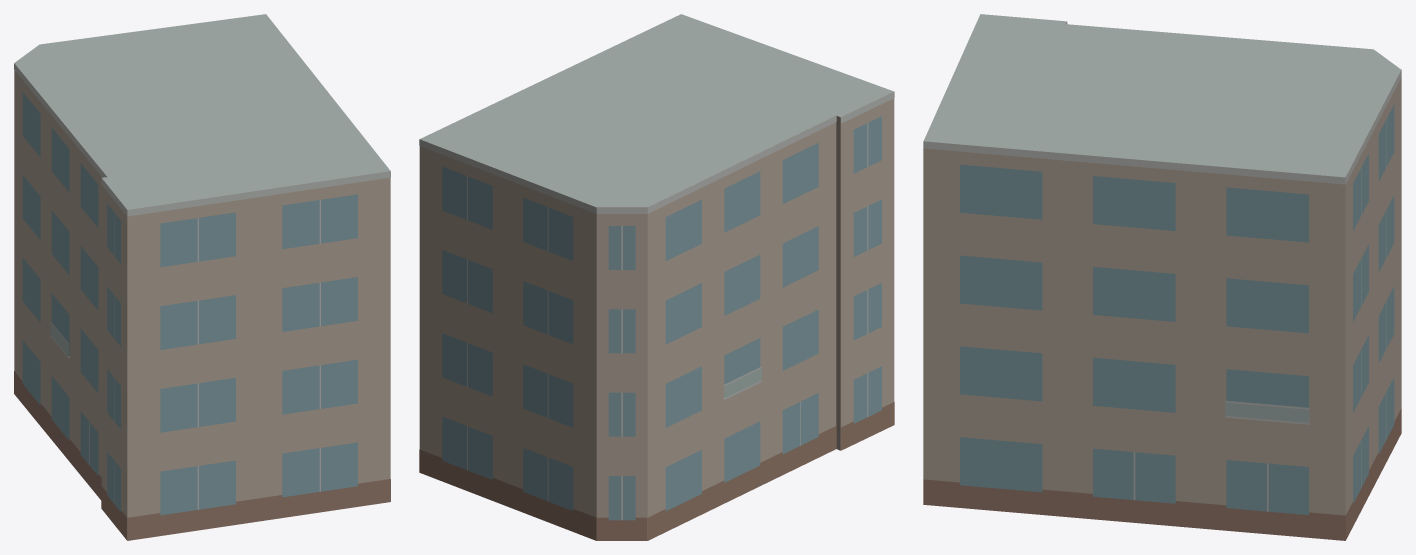
Rendered from survey-upis-32820996.glb.
3 renders of one model, left to right at view 1: azimuth 30°, elevation 25°; view 2: azimuth 150°, elevation 25°; view 3: azimuth 270°, elevation 25°, orthographic. The views are drawn at different scales.
Parts seen in each view (by area): view 1: survey-upis-32820996.tmp; view 2: survey-upis-32820996.tmp; view 3: survey-upis-32820996.tmp.
Boxes of the visible parts, x1,y1,x2,y2 form: survey-upis-32820996.tmp: (14, 14, 390, 540); survey-upis-32820996.tmp: (419, 14, 894, 540); survey-upis-32820996.tmp: (923, 14, 1401, 540).
Bounding box in the file's own units: 11.97 × 12.4 × 14.8.
